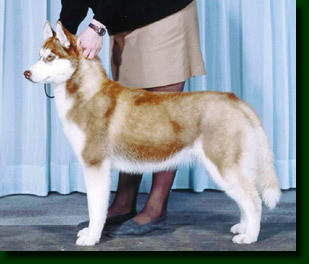dog: (19, 16, 283, 249)
